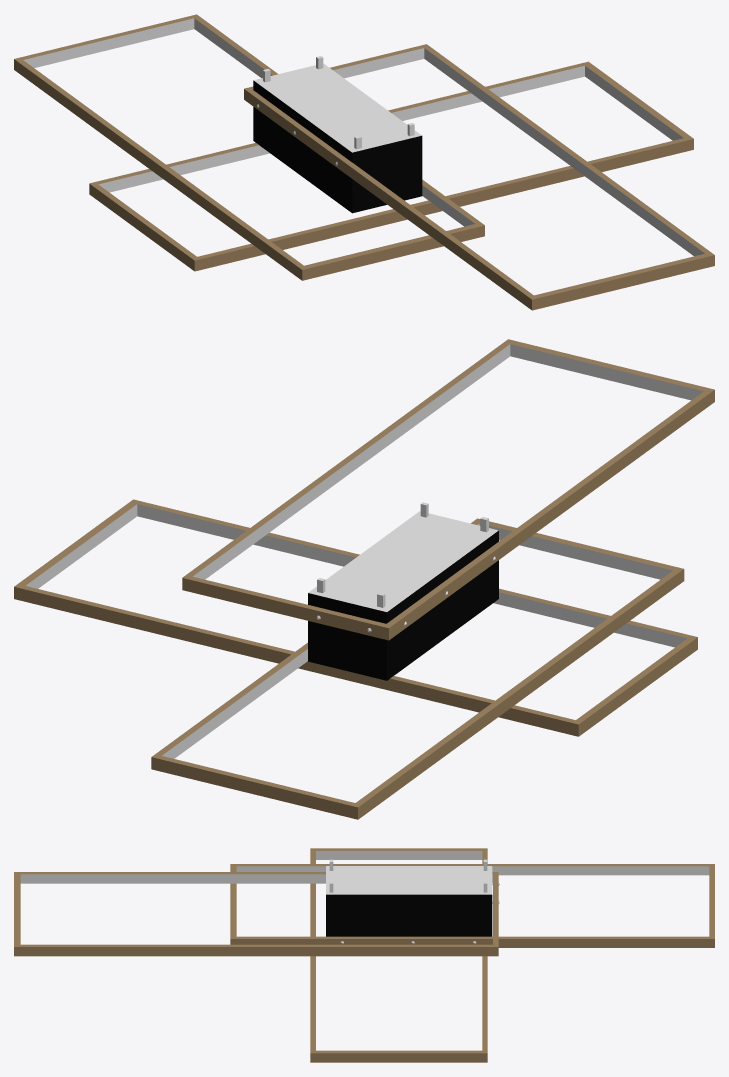
Rendered from Lamp.fbx.
The picture shows the model from 3 angles, top to bottom: view 1: azimuth 30°, elevation 25°; view 2: azimuth 150°, elevation 25°; view 3: azimuth 270°, elevation 25°; orthographic projection. The views are drawn at different scales.
Parts seen in each view (by area): view 1: Cube.001, Cube.002, Cube, Cube.003; view 2: Cube, Cube.001, Cube.002, Cube.003; view 3: Cube.001, Cube, Cube.003, Cube.002.
Part boxes in pixels (box(x1,y1,x2,y2)): Cube.001: box(253, 56, 422, 213); Cube.002: box(89, 61, 693, 271); Cube: box(244, 44, 714, 310); Cube.003: box(14, 14, 484, 280); Cube: box(182, 339, 714, 640); Cube.001: box(308, 502, 498, 680); Cube.002: box(14, 499, 697, 736); Cube.003: box(151, 518, 684, 819); Cube.001: box(326, 859, 492, 936); Cube: box(14, 872, 498, 956); Cube.003: box(230, 864, 714, 947); Cube.002: box(310, 848, 487, 1062).
Bounding box in the file's own units: 1054 × 166 × 1524.
